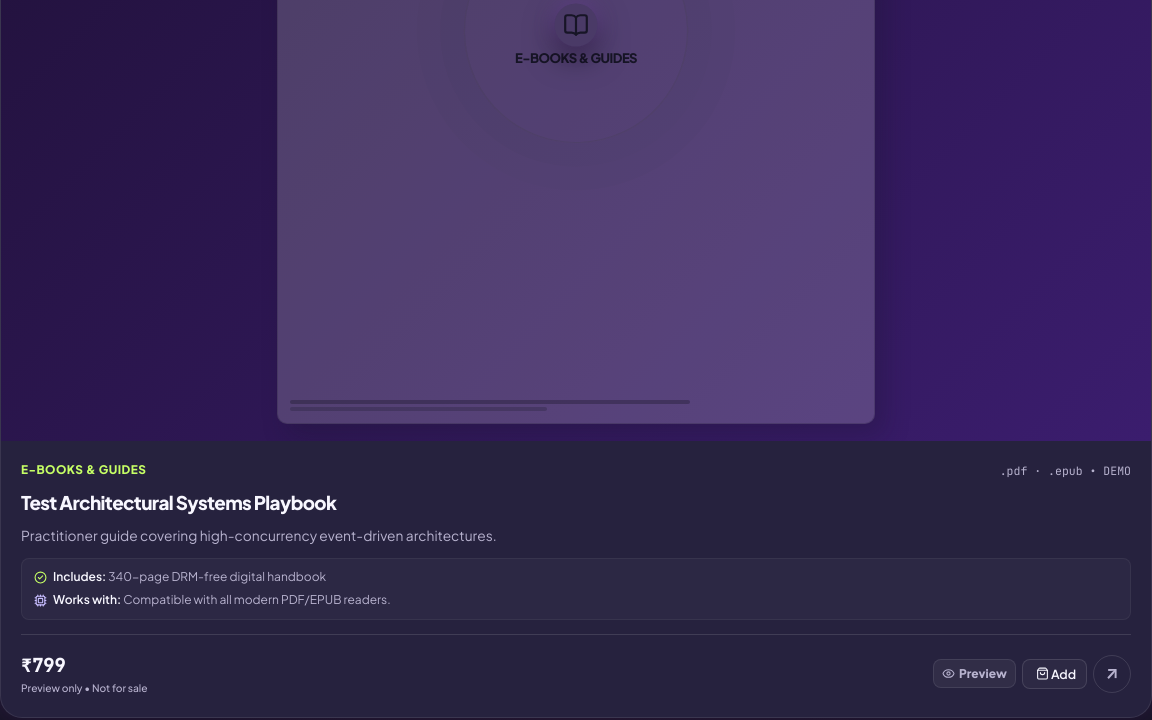
Scenario: Product Quick View Modal & Portal Functionality › closes when pressing the Escape key
(page scrolled)
Click the button "Preview". click: click(974, 674)
box: [933,659,1016,688]
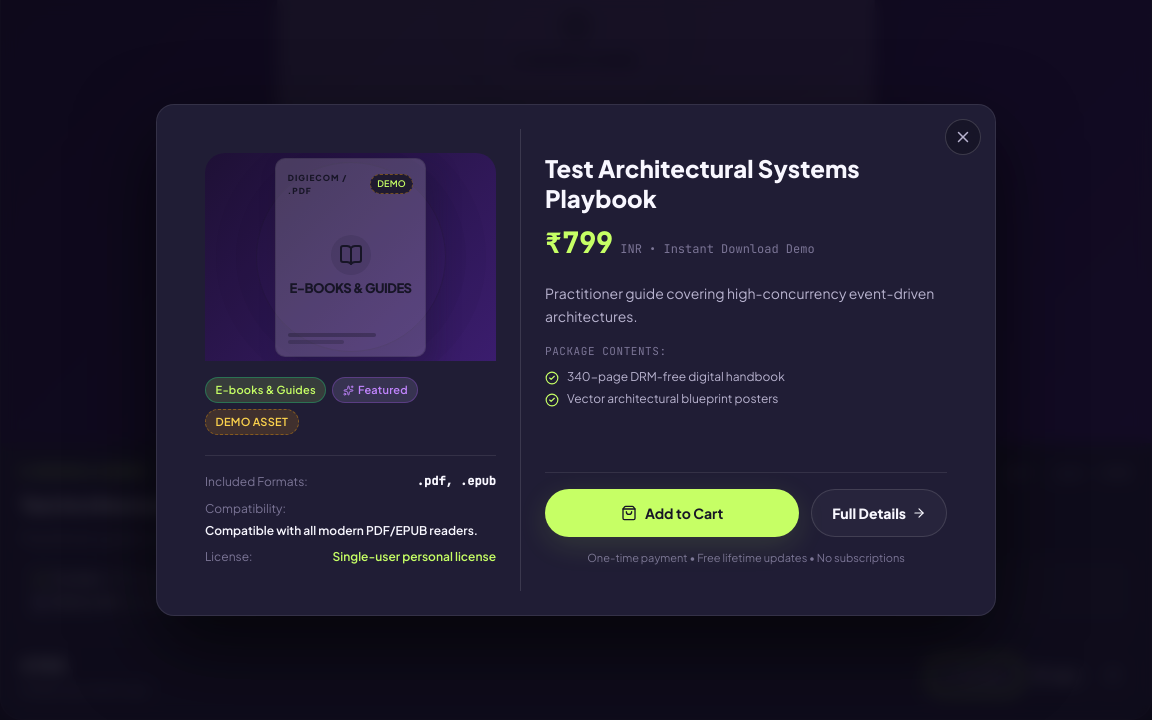
Expected: the dialog is shown, [156,104,996,616]
Note: Fire Escape keydown
Press Escape
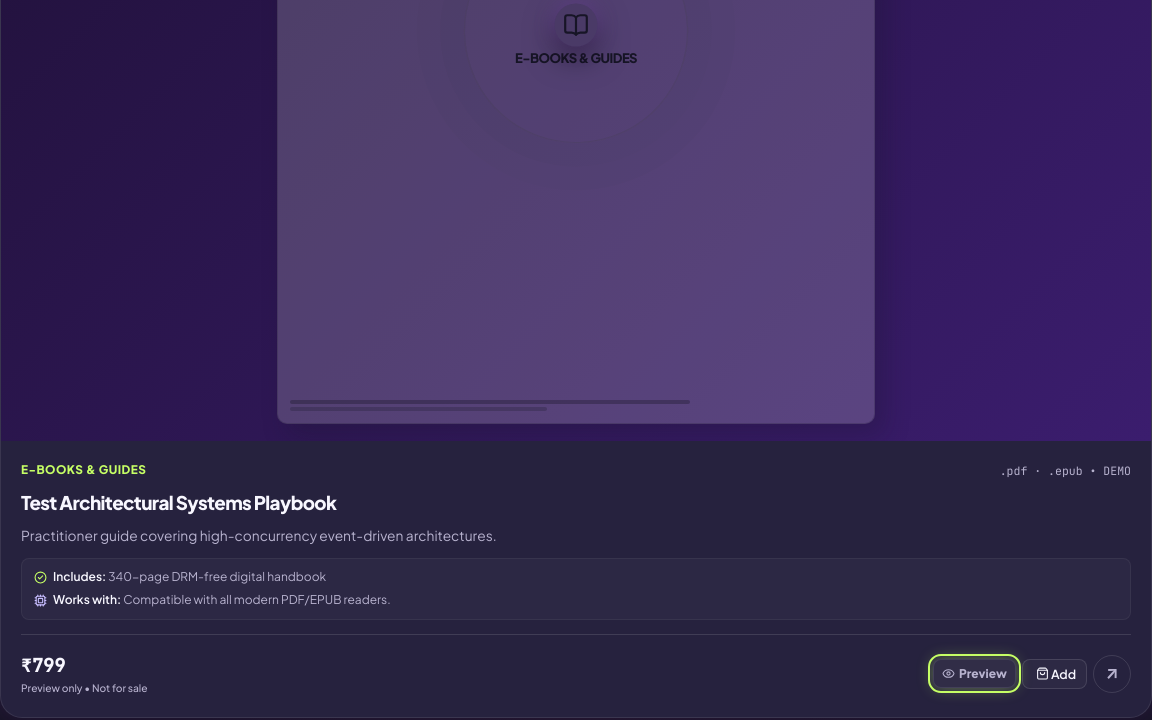
Expected: the dialog is gone
